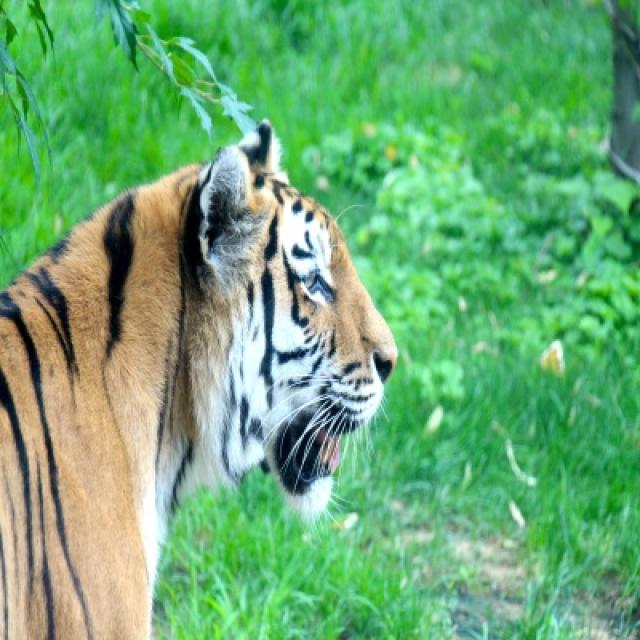Tiger: (0, 107, 398, 638)
